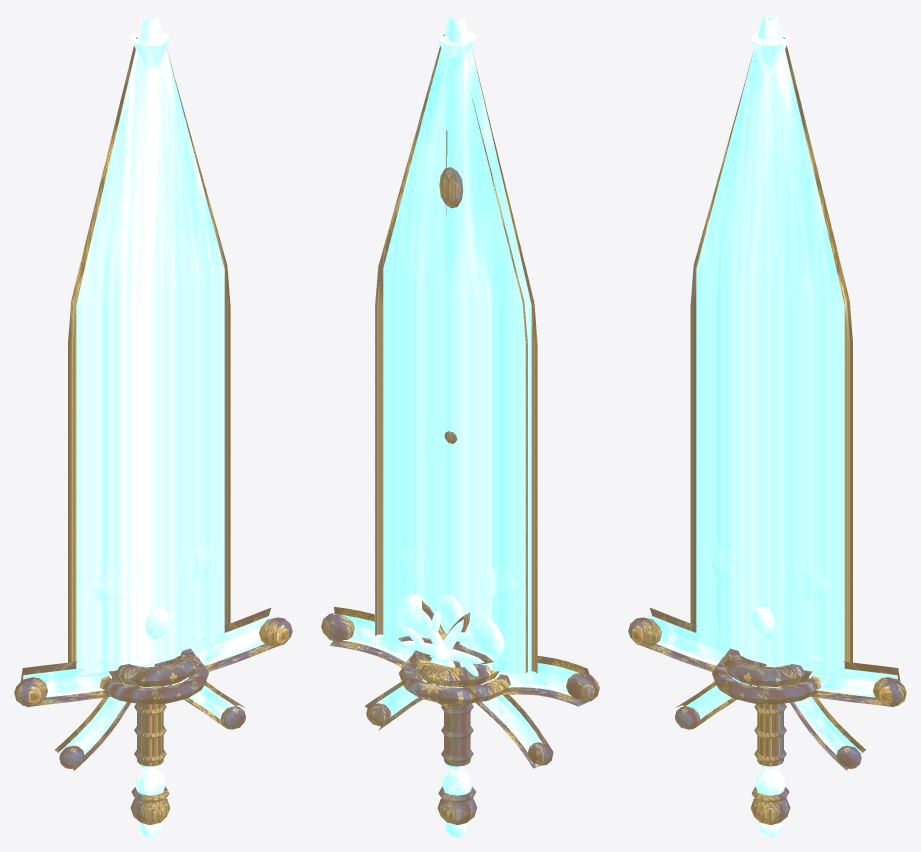
The model's file is frost_blade.glb.
3 renders of one model, left to right at view 1: azimuth 30°, elevation 25°; view 2: azimuth 150°, elevation 25°; view 3: azimuth 330°, elevation 25°, orthographic.
Visible parts, largest first — view 1: glow, metal; view 2: glow, metal; view 3: glow, metal.
Part boxes in pixels (x1,y1,x2,y2): glow: (23, 15, 272, 837); metal: (14, 37, 292, 824); glow: (333, 16, 585, 837); metal: (321, 34, 599, 825); glow: (648, 15, 897, 837); metal: (628, 37, 906, 824).
Bounding box in the file's own units: 0.418 × 1.18 × 0.1501.
2 materials, 2 textured.
